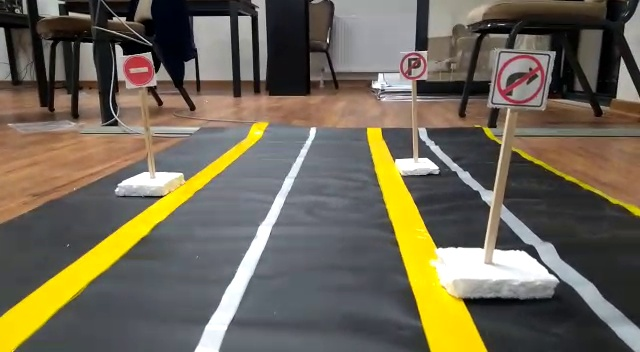girisi_olmayan_yol: (125, 57, 157, 86)
park_yapilmaz: (399, 53, 429, 80)
saga_donulmez: (490, 49, 551, 109)
